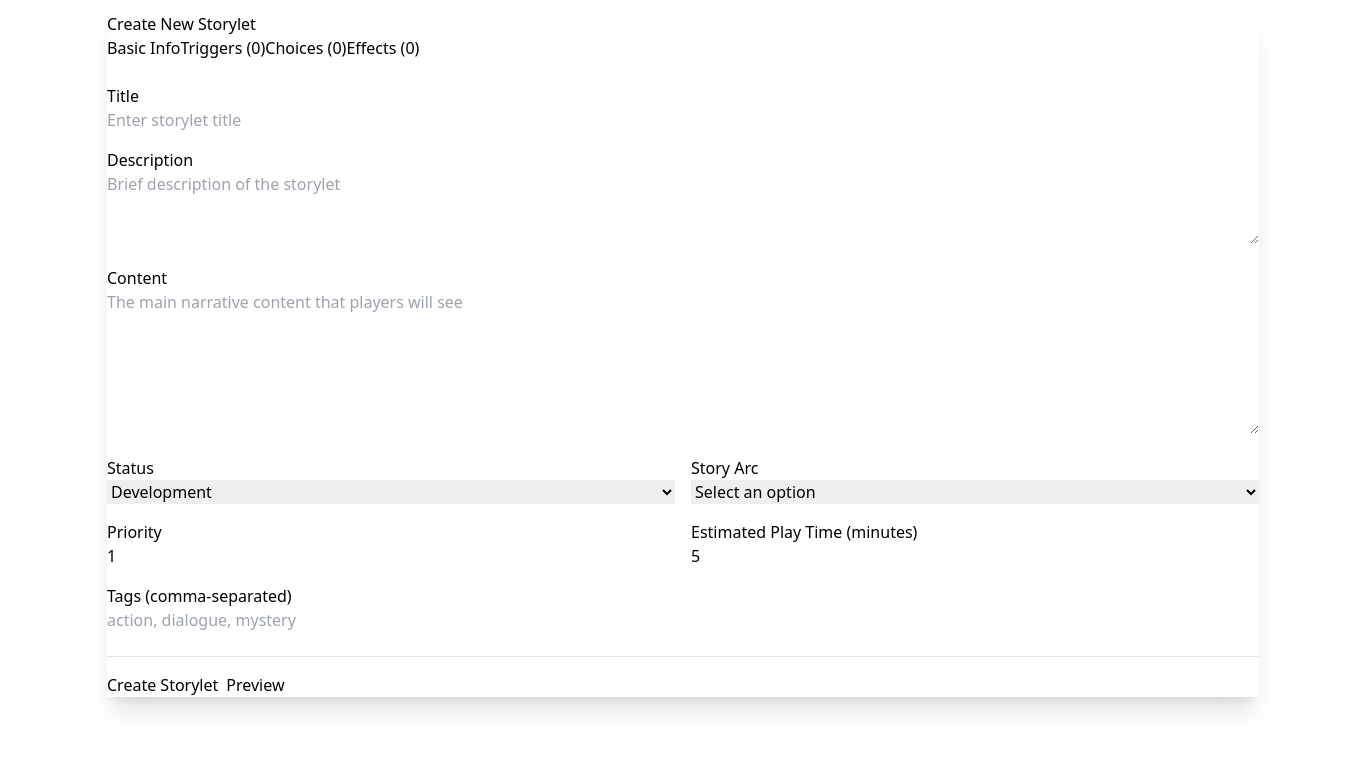
AdvancedStoryletCreator › allows adding and removing choices
// Switch to choices tab
Click the button "Choices (0)" at {"x": 306, "y": 48}, box [265, 36, 346, 60]
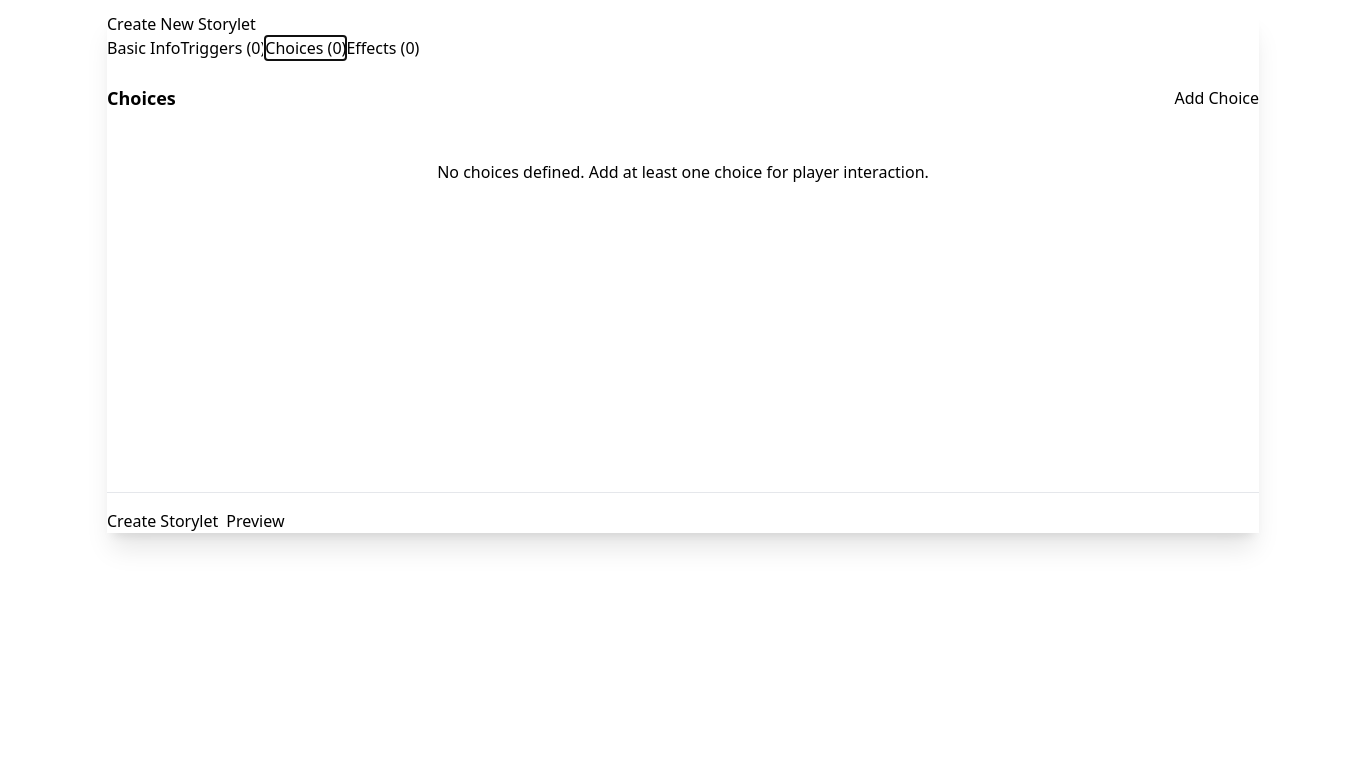
// Add a choice
Click the button "Add Choice" at {"x": 1217, "y": 98}, box [1174, 86, 1259, 110]
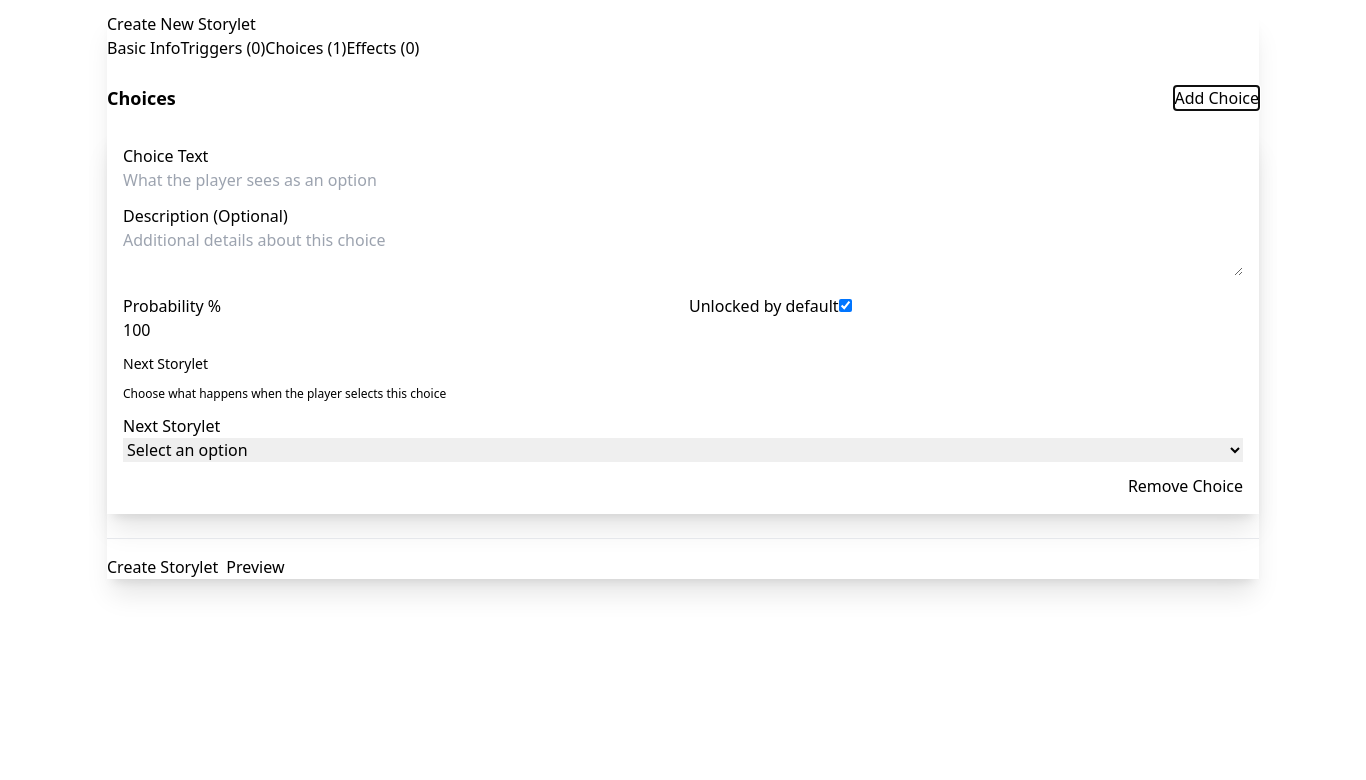
Now the field labelled "Choice Text" is shown, box [123, 168, 1243, 192]
Now the number field labelled "Probability %" is shown, box [123, 318, 677, 342]
// Remove the choice
Click the button "Remove Choice" at {"x": 1185, "y": 486}, box [1128, 474, 1243, 498]
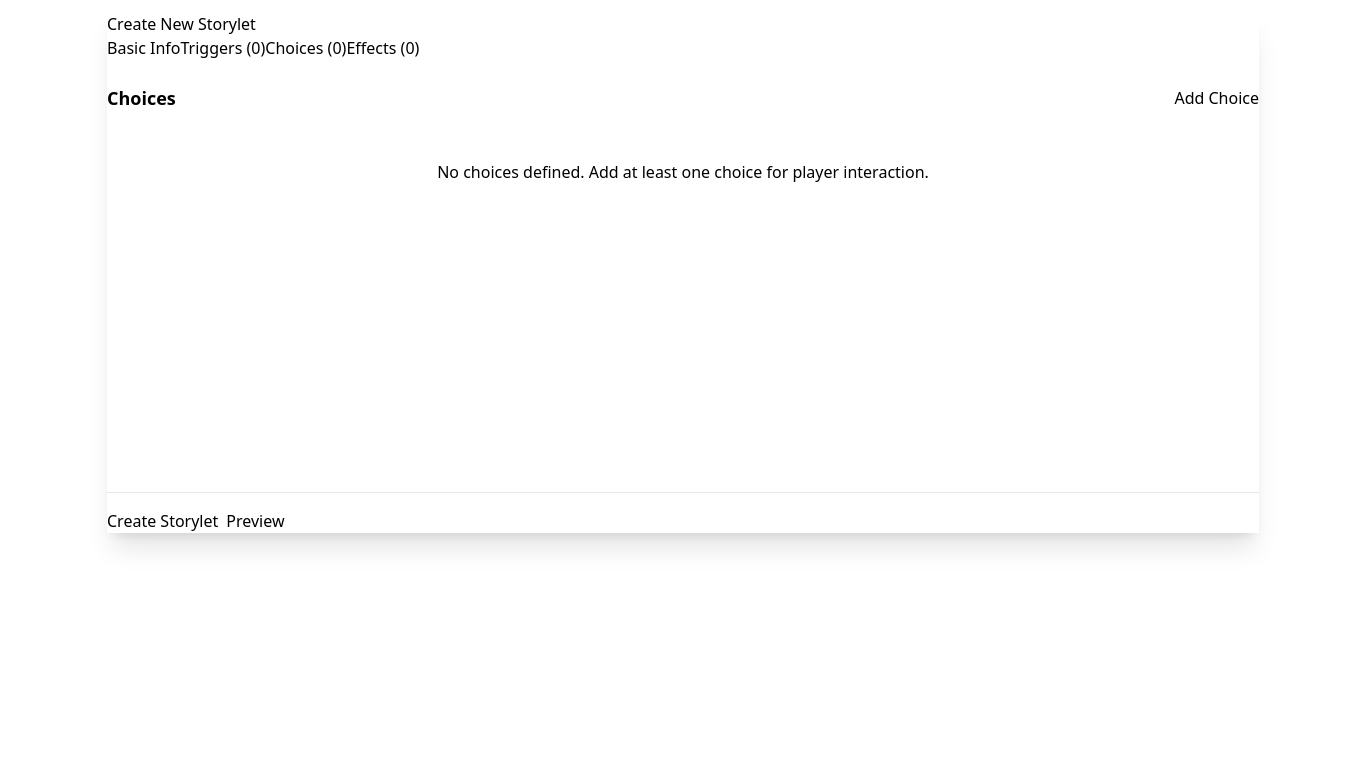
Now the text "No choices defined. Add at least one choice for player interaction." is shown, box [437, 161, 929, 183]
